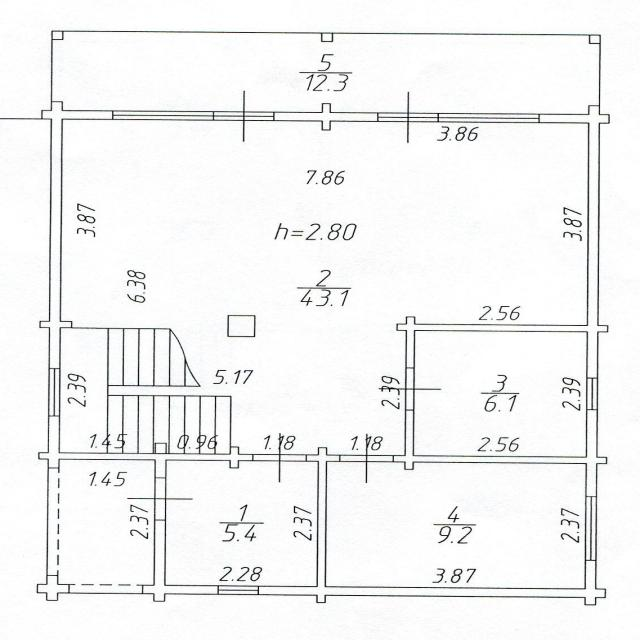Corridors: (59, 460, 154, 585)
Doors: (376, 89, 439, 146), (213, 89, 276, 142), (377, 367, 445, 411), (253, 429, 306, 485), (125, 478, 195, 520), (340, 432, 395, 485)
LBwalls: (540, 105, 611, 378), (41, 101, 113, 368), (259, 561, 607, 606), (142, 520, 217, 603), (274, 111, 377, 122), (586, 410, 597, 497), (37, 575, 70, 602), (227, 314, 255, 338), (47, 416, 59, 468), (154, 443, 167, 478), (321, 32, 332, 42), (51, 30, 62, 40), (589, 35, 601, 44)
Offices: (62, 120, 588, 455), (54, 31, 598, 113), (327, 463, 585, 588), (414, 332, 586, 456), (166, 461, 317, 585)
Stairs: (60, 327, 230, 454)
Walls: (394, 410, 587, 470), (397, 316, 588, 368), (306, 447, 340, 587), (166, 447, 252, 470), (47, 467, 58, 576), (69, 584, 142, 594), (59, 453, 155, 460), (597, 456, 607, 465), (39, 321, 51, 328), (322, 121, 330, 131), (598, 325, 609, 332), (39, 452, 48, 460), (316, 596, 325, 604), (61, 321, 71, 328), (322, 104, 330, 112)
Windows: (438, 113, 540, 123), (113, 110, 214, 120), (585, 496, 597, 561), (48, 368, 61, 417), (218, 585, 259, 595), (586, 378, 598, 410)
